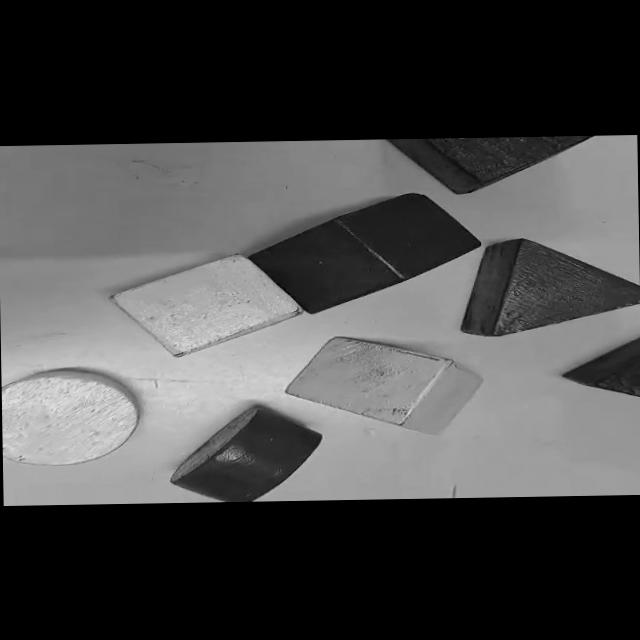rcube: (250, 194, 481, 314), (171, 407, 322, 502)
rtriangle: (462, 239, 639, 336)
ycircle: (2, 369, 138, 466)
ycube: (110, 255, 302, 356)
ytriangle: (286, 338, 482, 435)
